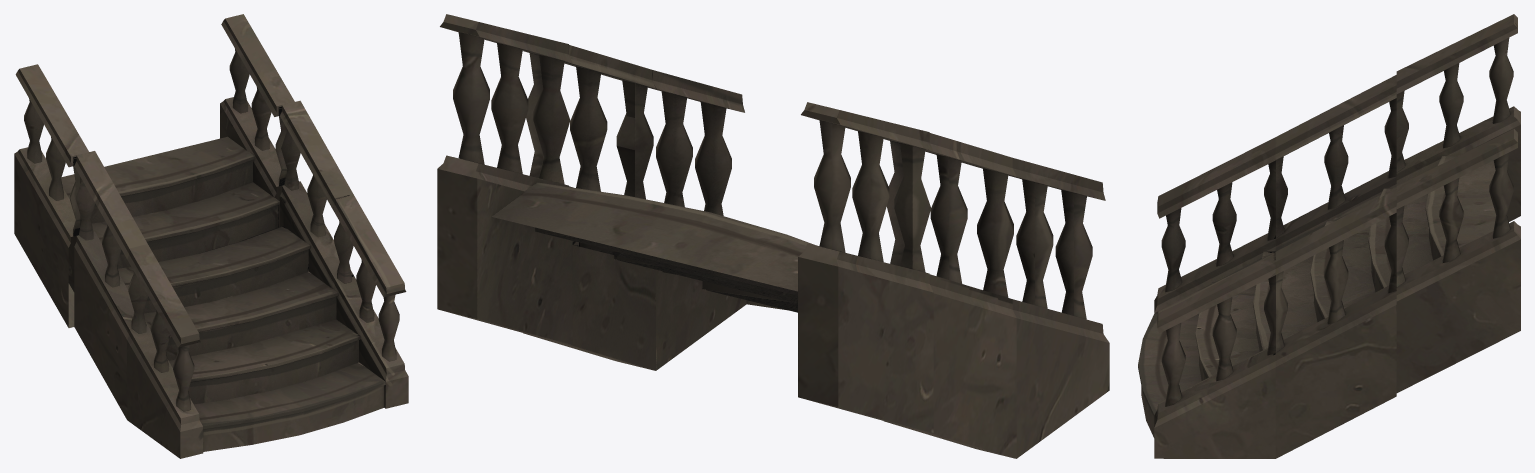
File: ObjStair_2.fbx
3 views of the same model, side by side, from view 1: azimuth 30°, elevation 25°; view 2: azimuth 150°, elevation 25°; view 3: azimuth 270°, elevation 25° (orthographic). The views are drawn at different scales.
Parts seen in each view (by area): view 1: Obj_Stair_2_downend, Obj_Stair_2_upend, Obj_Stair_2_middle; view 2: Obj_Stair_2_upend, Obj_Stair_2_middle, Obj_Stair_2_downend; view 3: Obj_Stair_2_upend, Obj_Stair_2_middle, Obj_Stair_2_downend.
Part boxes in pixels (bbox=[...]): Obj_Stair_2_downend: bbox=[127, 194, 408, 458]; Obj_Stair_2_upend: bbox=[14, 14, 294, 327]; Obj_Stair_2_middle: bbox=[74, 100, 353, 419]; Obj_Stair_2_upend: bbox=[437, 14, 933, 433]; Obj_Stair_2_middle: bbox=[523, 45, 1016, 458]; Obj_Stair_2_downend: bbox=[621, 70, 1109, 458]; Obj_Stair_2_upend: bbox=[1368, 14, 1520, 392]; Obj_Stair_2_middle: bbox=[1253, 75, 1396, 458]; Obj_Stair_2_downend: bbox=[1138, 137, 1275, 458].
Bounding box in the file's own units: 1.55 × 1.75 × 1.92.
